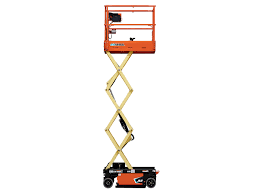Scissor Lift: (101, 2, 161, 188)
